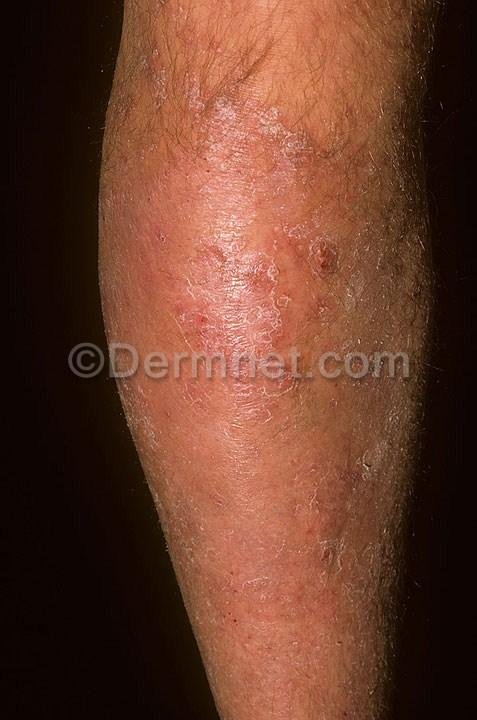Eczema: (119, 0, 405, 348), (165, 377, 373, 666)
